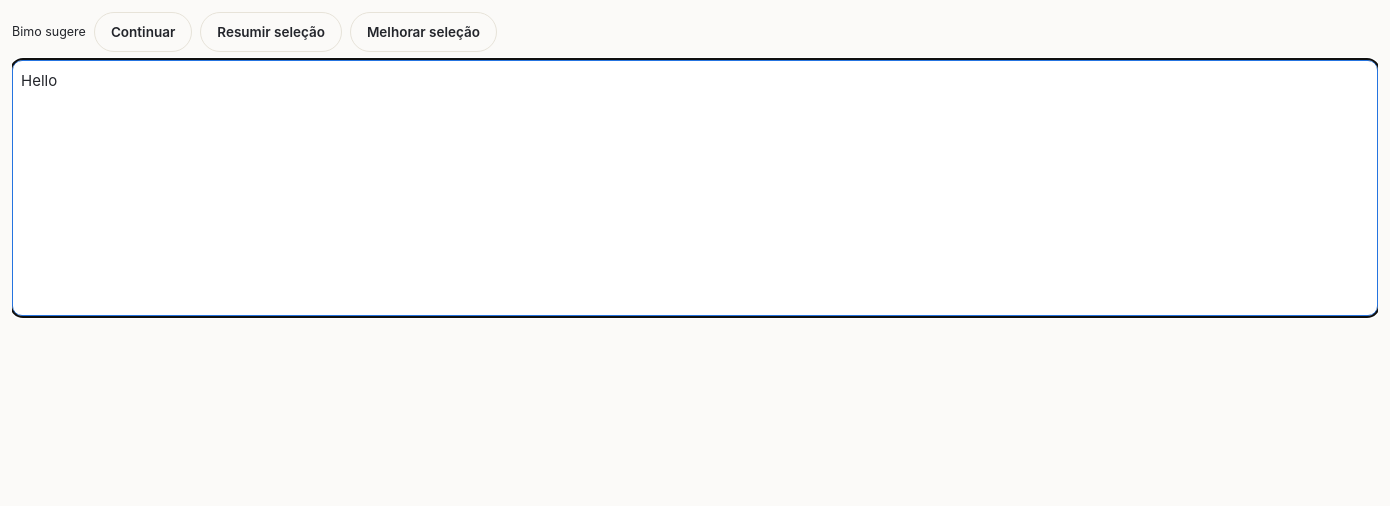
Test: Bimo sugere (rascunho) › digitar depois do cursor durante o pedido invalida o aceite (o texto não muda no lugar errado)
Click the button "Continuar".
click(143, 32)  # box [94, 12, 192, 52]
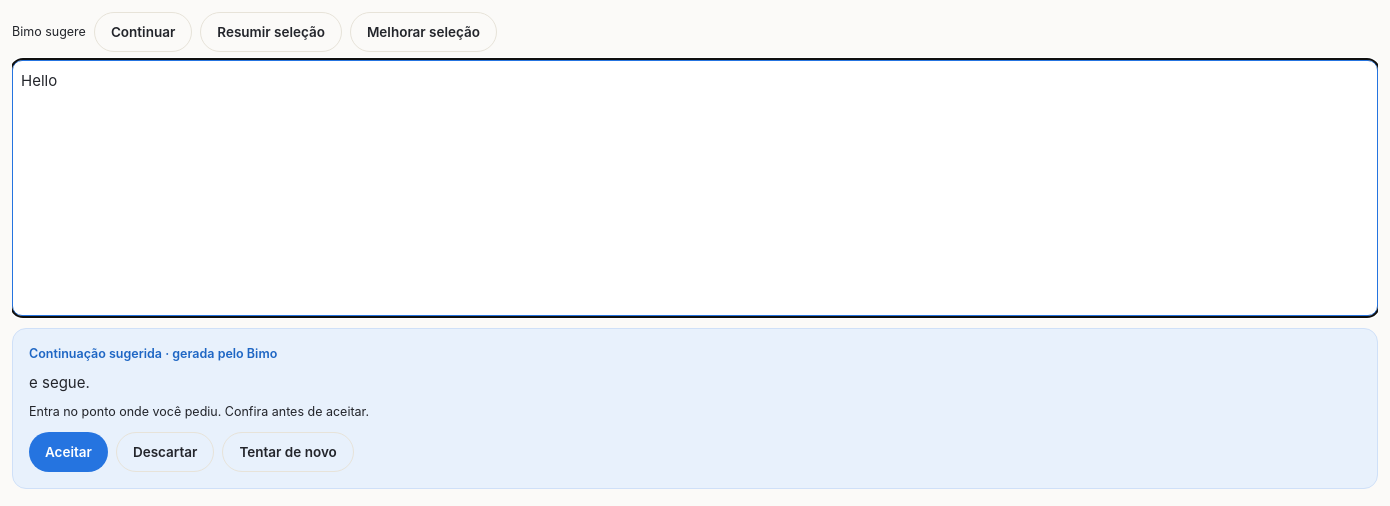
Replace the text in the text box named "Texto da nota" with "Hello world" at {"x": 695, "y": 188}, box [12, 60, 1378, 316]
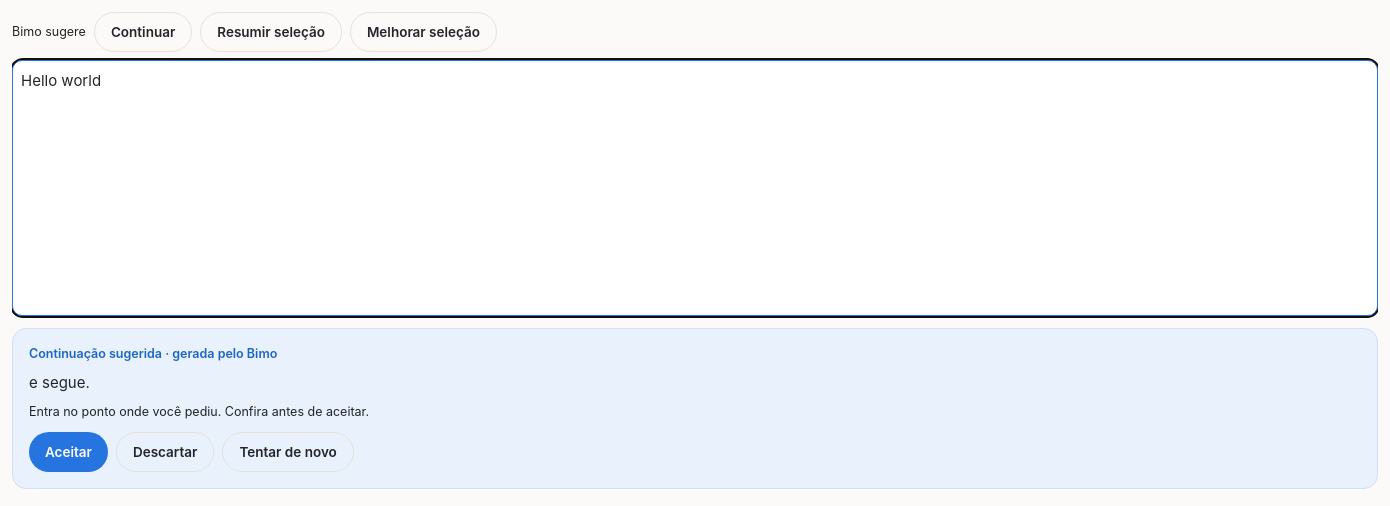
Click the button "Aceitar".
click(68, 452)  # box [29, 432, 108, 472]
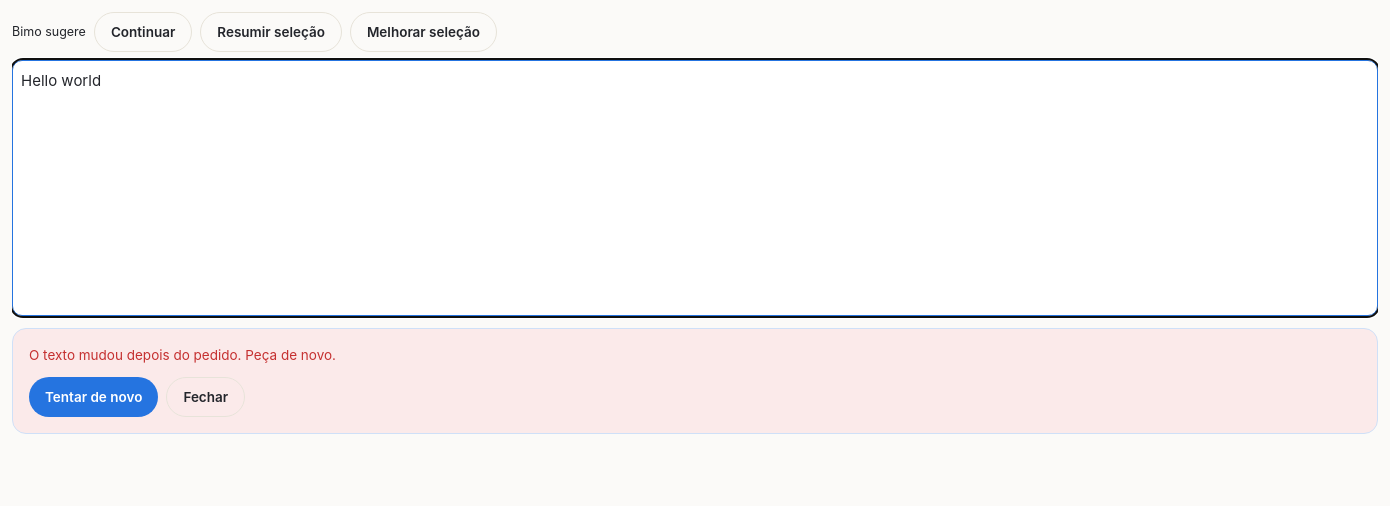
Now the message shows "O texto mudou depois do pedido", box [29, 347, 336, 363]
